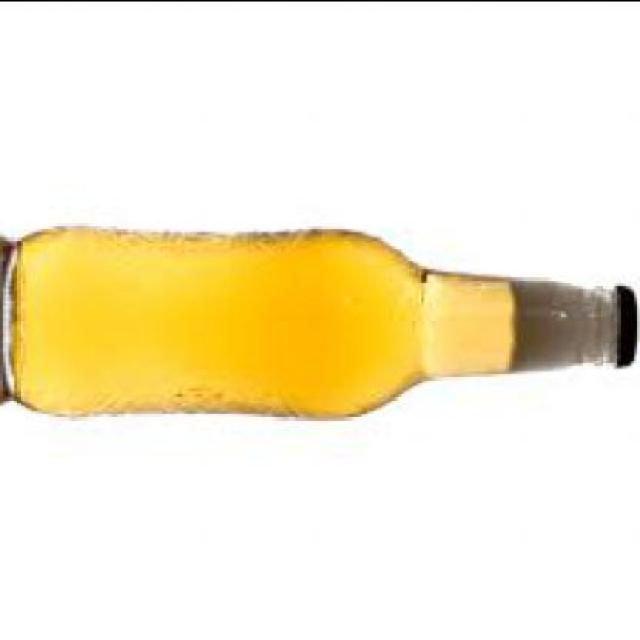GLASS: (3, 228, 620, 415)
METAL: (620, 282, 638, 364)
